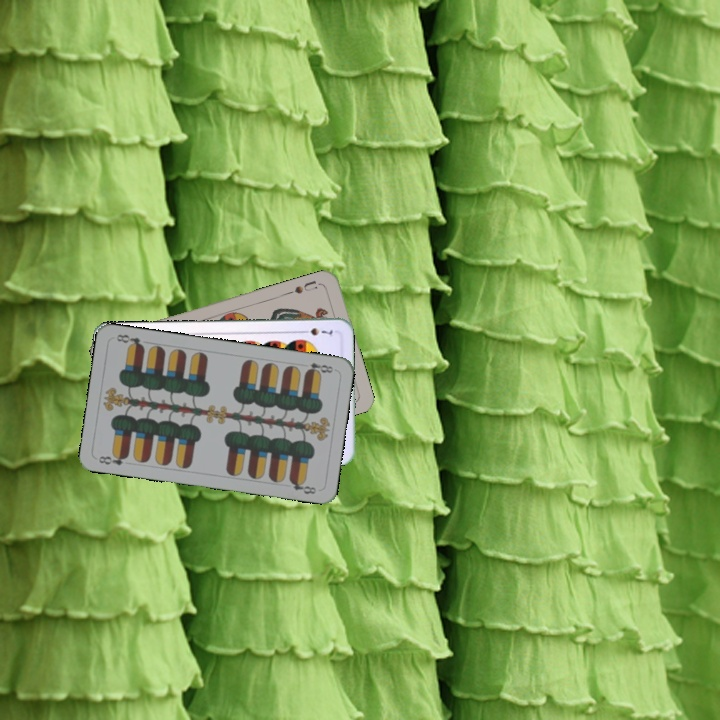E8: (95, 449, 131, 468), (302, 358, 336, 377)
S7: (297, 324, 337, 339)
SU: (290, 276, 320, 296)
